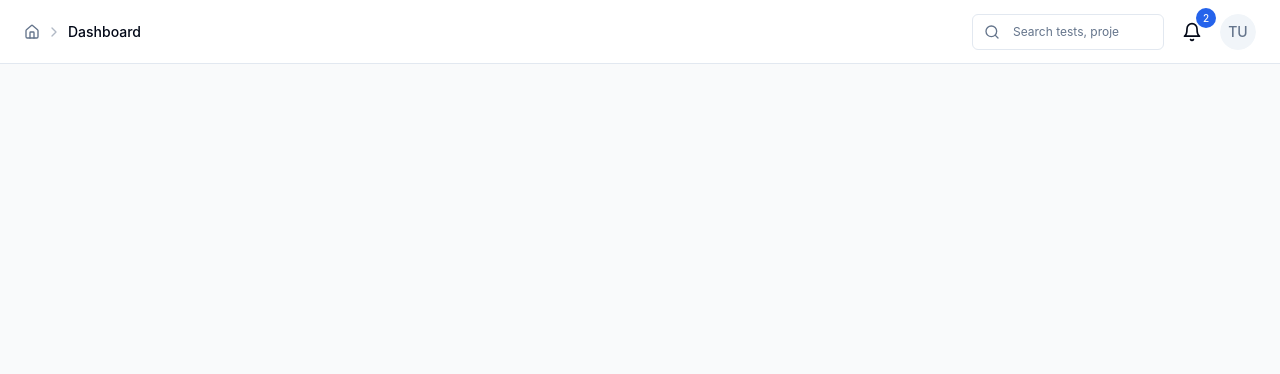
Test case: Header › should show user dropdown menu when avatar is clicked
Click the button "TU" at coordinates (1238, 32), box [1220, 14, 1256, 50]
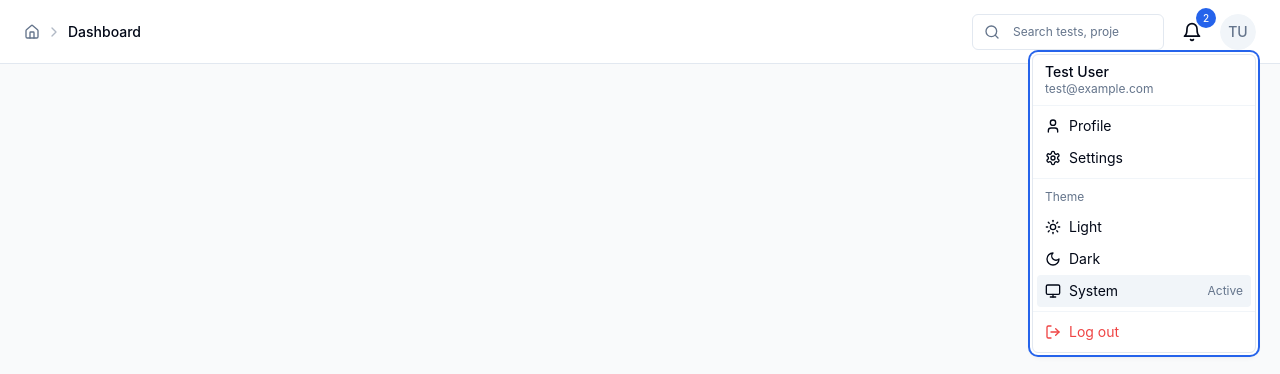
Result: the text "Test User" is shown at [1045, 63, 1109, 80]
Result: the text "test@example.com" is shown at [1045, 81, 1154, 96]
